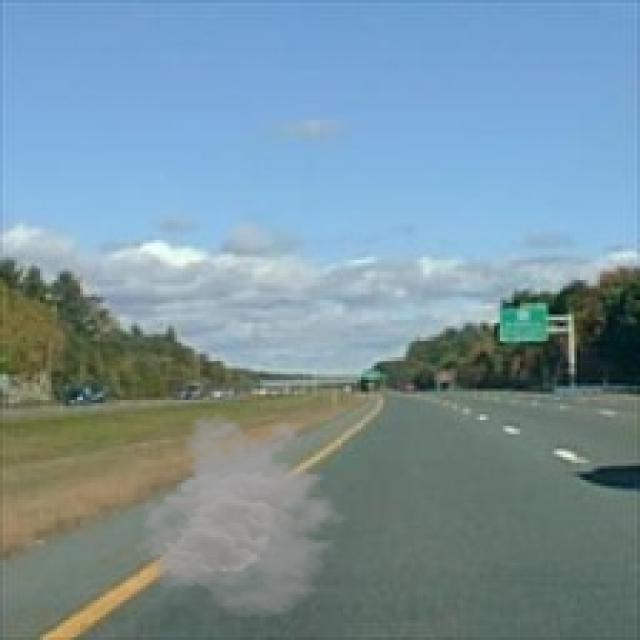Smoke: (132, 411, 358, 620)
